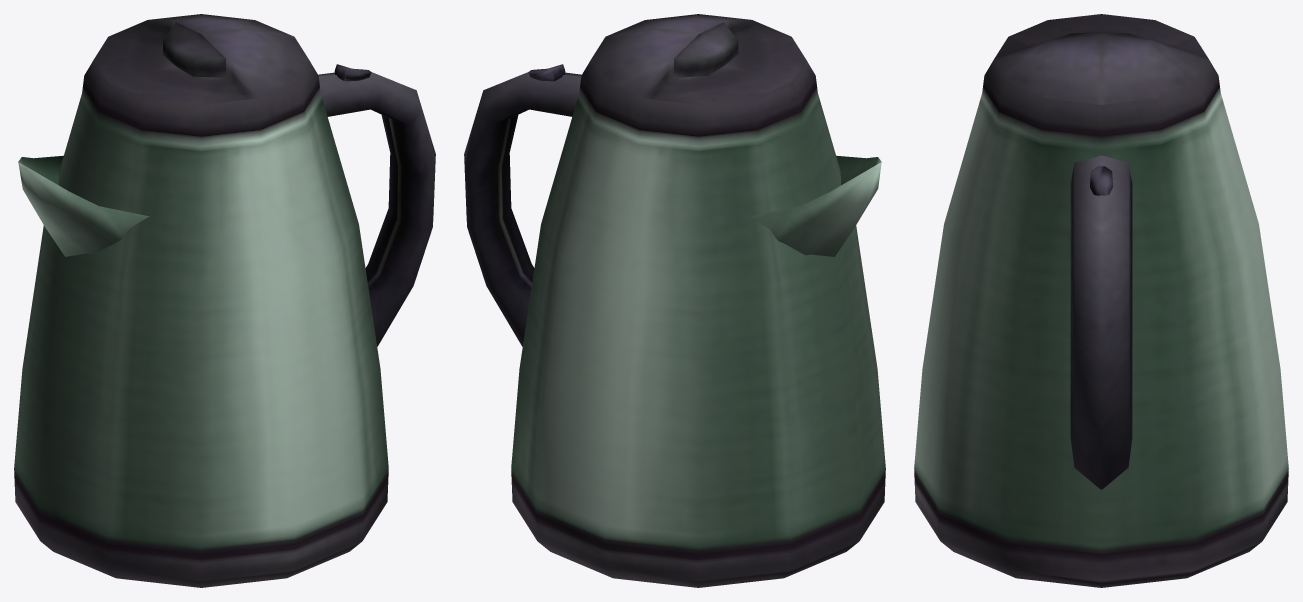
Rendered from SiZheBingFang_01_ShuiHu_01_uv2.FBX.
3 renders of one model, left to right at view 1: azimuth 30°, elevation 25°; view 2: azimuth 150°, elevation 25°; view 3: azimuth 270°, elevation 25°, orthographic.
Parts seen in each view (by area): view 1: QiCheXiuLiChang_01_shaoshuihu_01; view 2: QiCheXiuLiChang_01_shaoshuihu_01; view 3: QiCheXiuLiChang_01_shaoshuihu_01.
Boxes of the visible parts, bbox=[...] form: QiCheXiuLiChang_01_shaoshuihu_01: bbox=[14, 14, 435, 587]; QiCheXiuLiChang_01_shaoshuihu_01: bbox=[464, 14, 885, 587]; QiCheXiuLiChang_01_shaoshuihu_01: bbox=[914, 14, 1288, 587].
Bounding box in the file's own units: 142 × 156 × 110.
